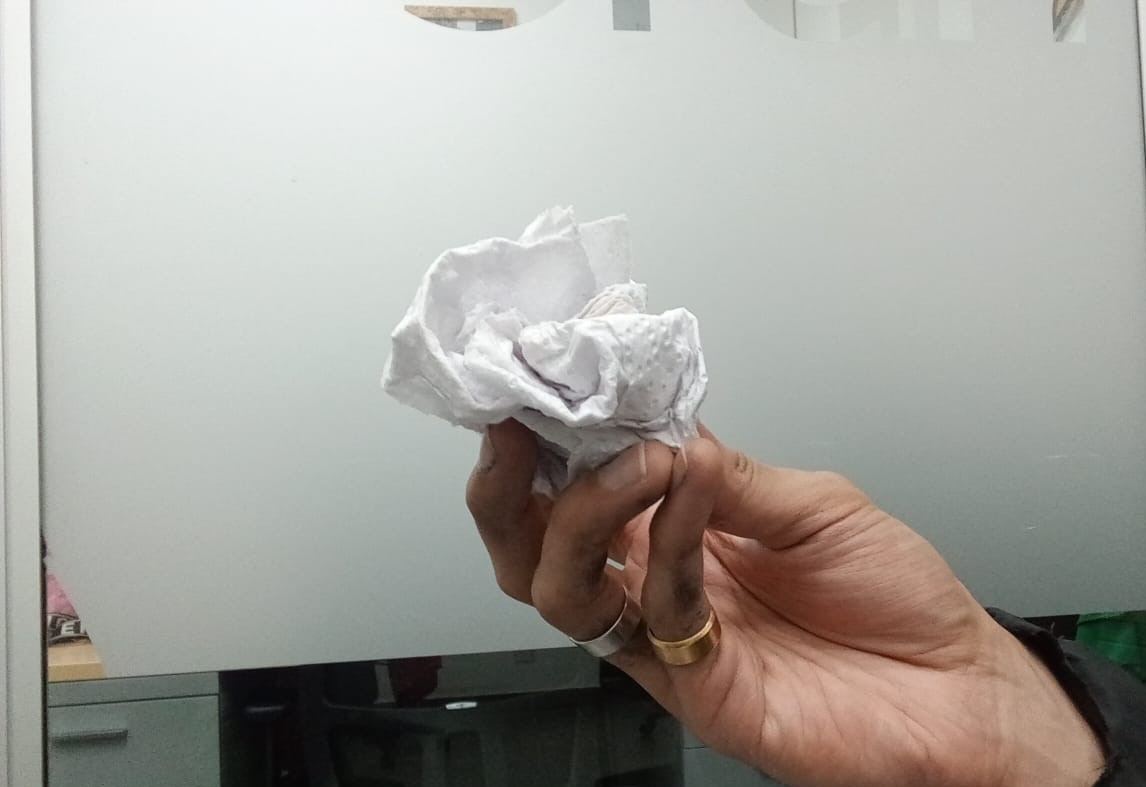Ordinario: (379, 200, 706, 468)
